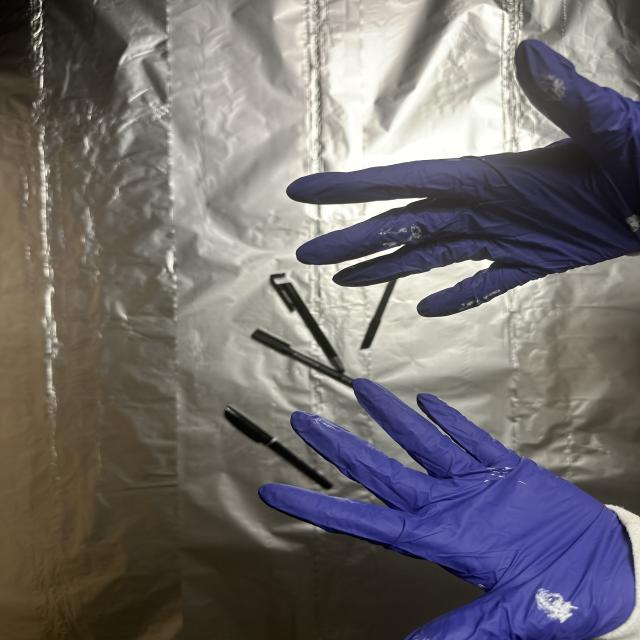gloves_contaminated: (259, 379, 640, 640), (287, 40, 640, 317)
